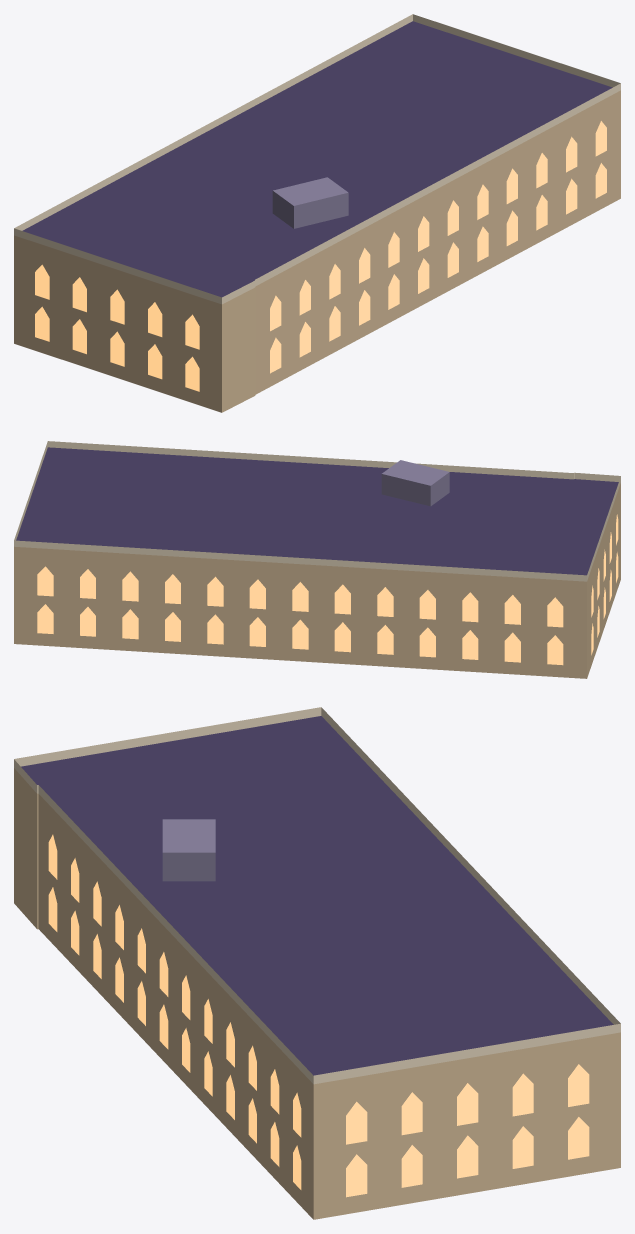
3 renders of one model, top to bottom at view 1: azimuth 30°, elevation 25°; view 2: azimuth 150°, elevation 25°; view 3: azimuth 270°, elevation 25°, orthographic. The views are drawn at different scales.
Visible parts, largest first — view 1: campus/b-126-0; view 2: campus/b-126-0; view 3: campus/b-126-0.
Boxes of the visible parts, box(x1,y1,x2,y2) form: campus/b-126-0: box(14, 14, 620, 412); campus/b-126-0: box(14, 441, 620, 678); campus/b-126-0: box(14, 707, 620, 1219).
Bounding box in the file's own units: 49.58 × 10.3 × 34.51.
